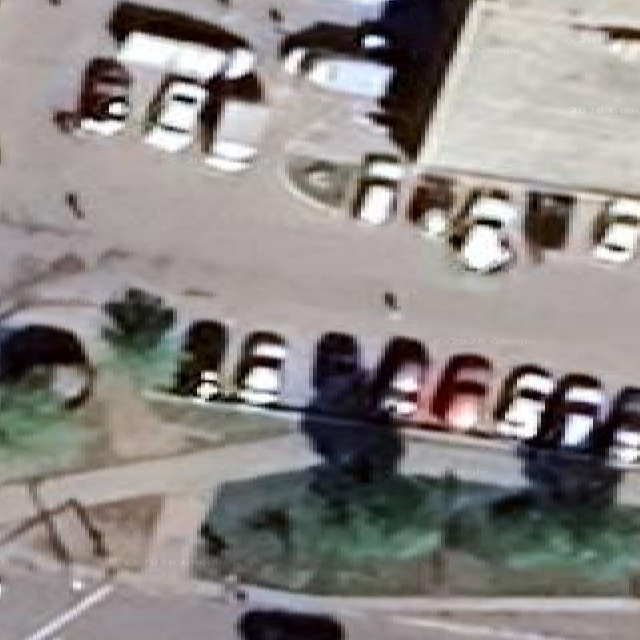car: (0, 324, 94, 407), (528, 374, 604, 452), (431, 353, 492, 431), (457, 195, 517, 273), (205, 99, 268, 172), (372, 337, 428, 418), (173, 320, 228, 401), (145, 79, 206, 152), (496, 366, 554, 439), (78, 58, 131, 135), (236, 331, 286, 405), (352, 156, 402, 224), (238, 609, 344, 639), (593, 199, 639, 263), (602, 387, 639, 464)
